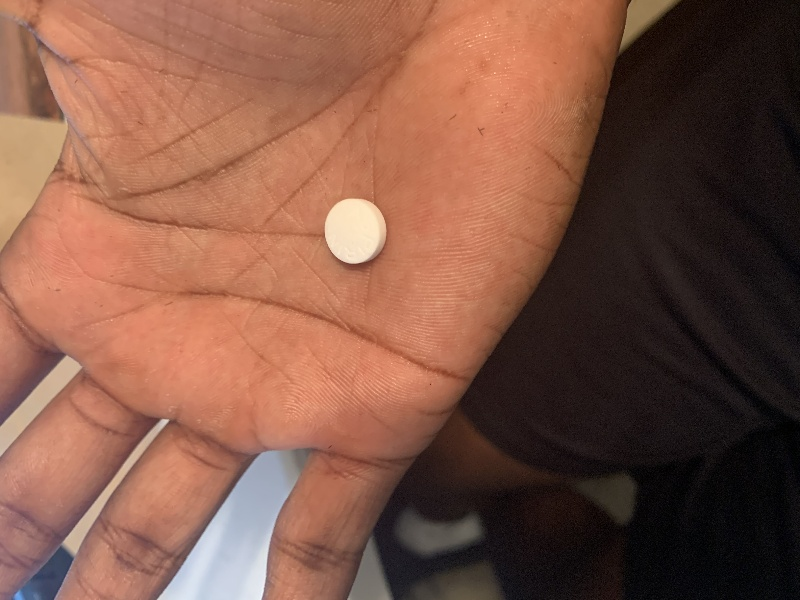Aspirin: (322, 192, 393, 272)
